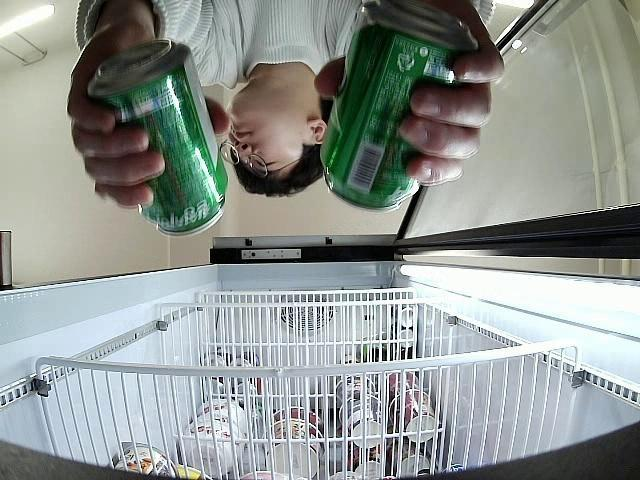12_chilsungCider: (317, 0, 478, 213), (85, 39, 231, 237)
